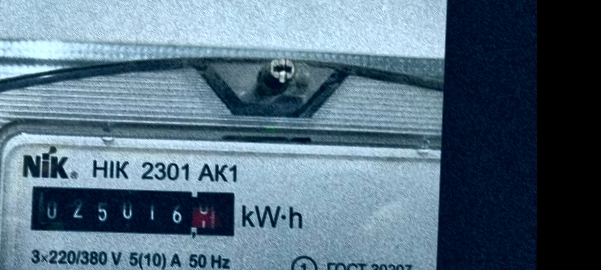0: (123, 198, 138, 222), (47, 200, 61, 222), (199, 196, 212, 217)
1: (148, 198, 160, 224), (201, 220, 209, 231)
2: (73, 198, 87, 221)
5: (98, 202, 110, 223)
6: (172, 202, 186, 228)
screen: (23, 177, 247, 246)
